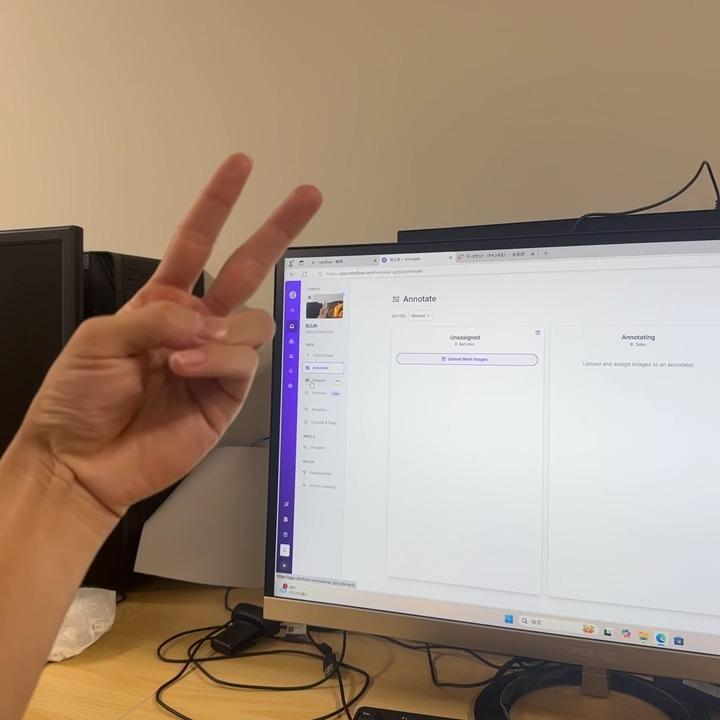without_gloves: (59, 77, 346, 508)
